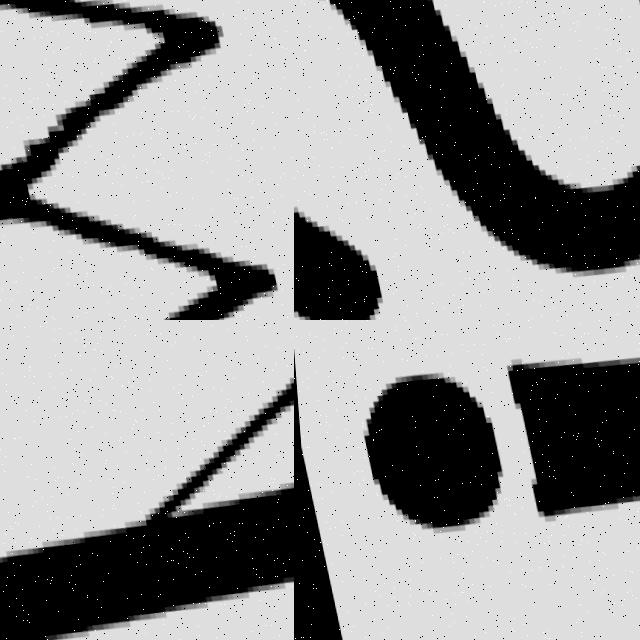I: (339, 320, 640, 564)
S: (294, 0, 640, 320)
W: (0, 0, 294, 320)
X: (0, 320, 294, 640)
